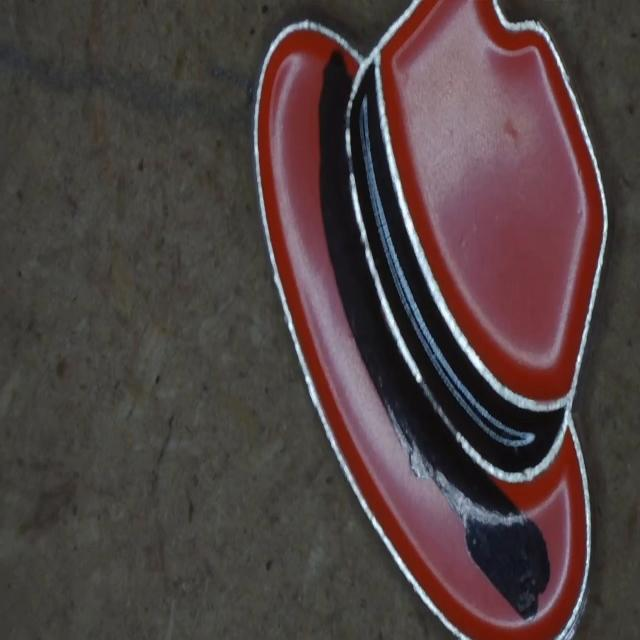Hatband: (350, 62, 565, 473)
Paint_Leak: (319, 51, 550, 618)
RedHatPin: (255, 0, 608, 638)
